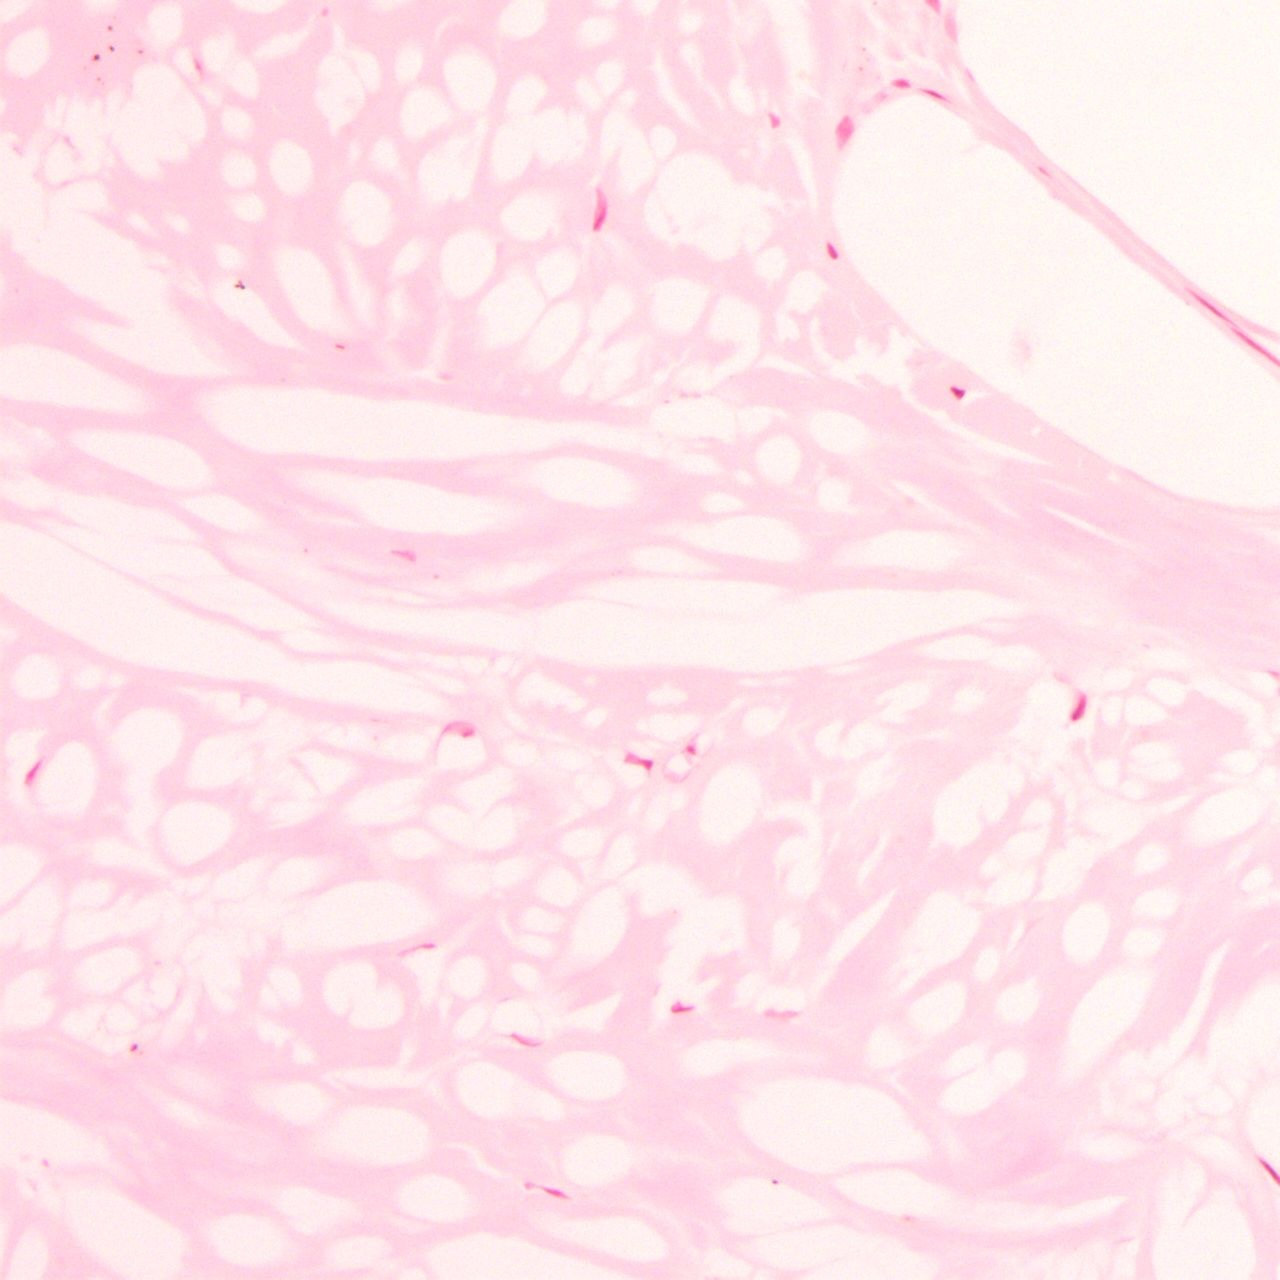dust: (233, 279, 245, 290), (91, 53, 100, 60), (108, 45, 115, 52), (105, 25, 113, 30), (137, 48, 143, 54)
nucleus-AC: (1184, 284, 1232, 325), (519, 1178, 573, 1201), (832, 114, 856, 150), (592, 186, 610, 233), (21, 754, 43, 789), (505, 1030, 543, 1050), (622, 750, 654, 772), (441, 720, 477, 738), (1067, 692, 1089, 722), (399, 940, 437, 956), (918, 83, 949, 102), (822, 238, 840, 263), (388, 547, 418, 561), (669, 1000, 696, 1014), (761, 1008, 799, 1017), (948, 384, 965, 399), (768, 110, 779, 128), (890, 79, 911, 88), (685, 740, 696, 754), (128, 1042, 138, 1051), (332, 343, 346, 350)
